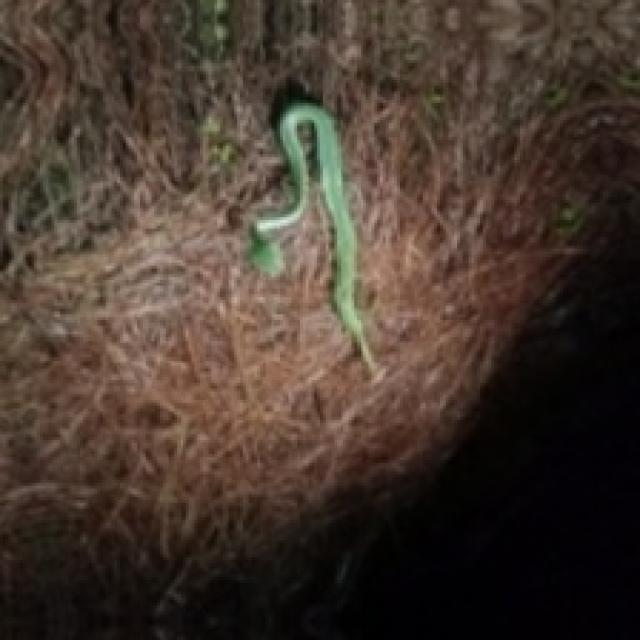north ph temple pitviper: (249, 103, 374, 369)
